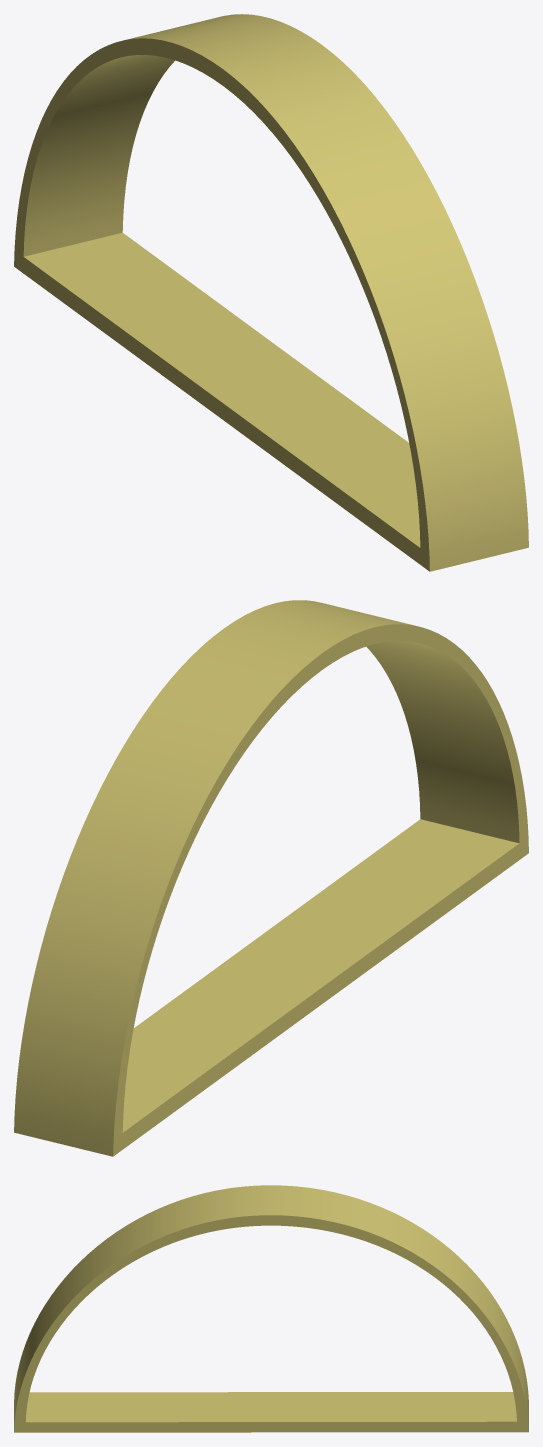
The model's file is pasted__gold_207.fbx.
3 renders of one model, top to bottom at view 1: azimuth 30°, elevation 25°; view 2: azimuth 150°, elevation 25°; view 3: azimuth 270°, elevation 25°, orthographic. The views are drawn at different scales.
Visible parts, largest first — view 1: pasted__gold_207; view 2: pasted__gold_207; view 3: pasted__gold_207.
Boxes of the visible parts, left/top/right/bottom form: pasted__gold_207: left=14, top=14, right=528, bottom=571; pasted__gold_207: left=14, top=600, right=528, bottom=1156; pasted__gold_207: left=14, top=1185, right=528, bottom=1432.
Bounding box in the file's own units: 18.5 × 134 × 62.66.
